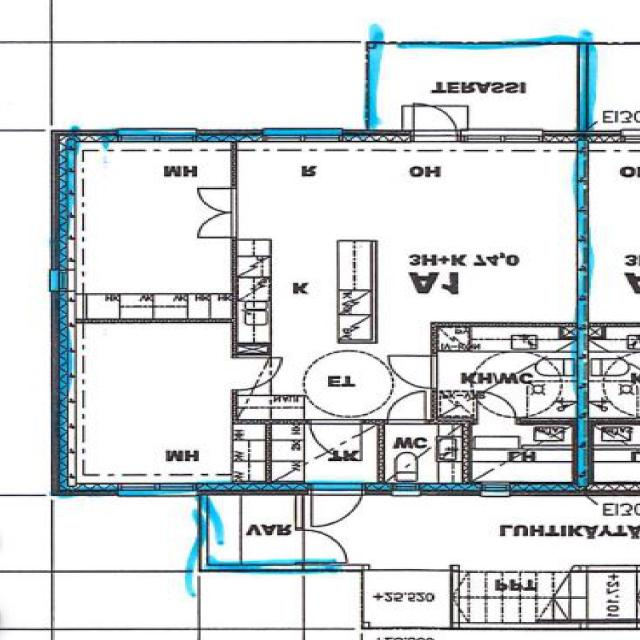door: (312, 483, 362, 528), (311, 419, 362, 462), (414, 102, 457, 142), (296, 530, 347, 562), (232, 358, 281, 390), (389, 356, 437, 388), (477, 391, 516, 424), (388, 391, 426, 424), (199, 212, 237, 238), (199, 188, 237, 213)
